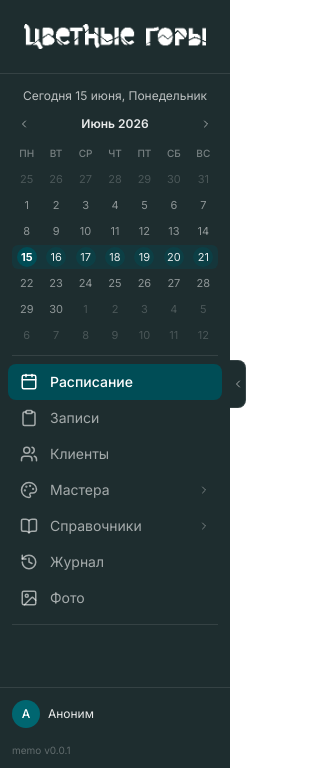
Test: Menubar › shows master list when Мастера is clicked
Click the button "Мастера" at (115, 490), box [8,472,222,508]
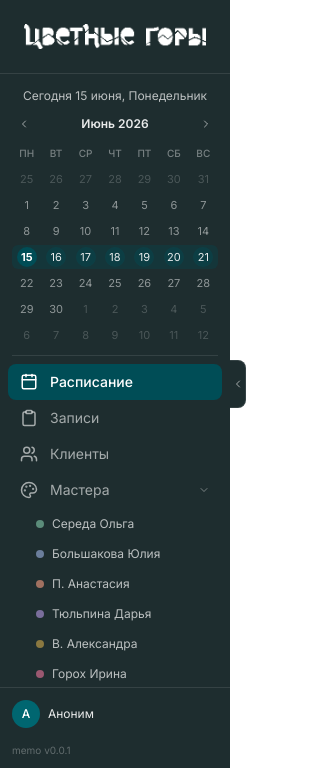
expect the text "Середа Ольга" is shown: met, box [52,516,134,532]
expect the text "Большакова Юлия" is shown: met, box [52,546,160,562]
